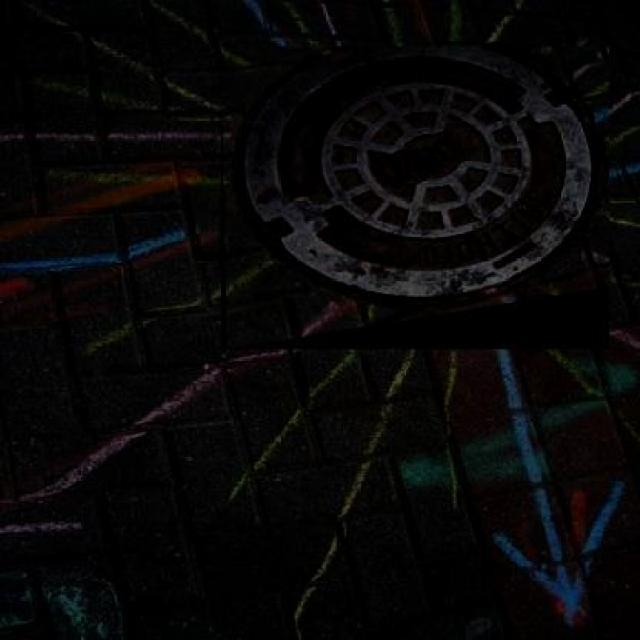Manhole: (220, 46, 609, 349)
